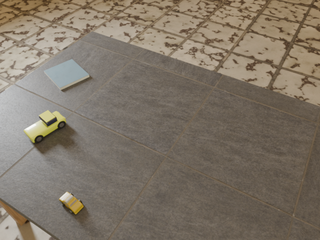book: (44, 59, 89, 90)
toy_car: (24, 110, 66, 143), (59, 192, 83, 214)
